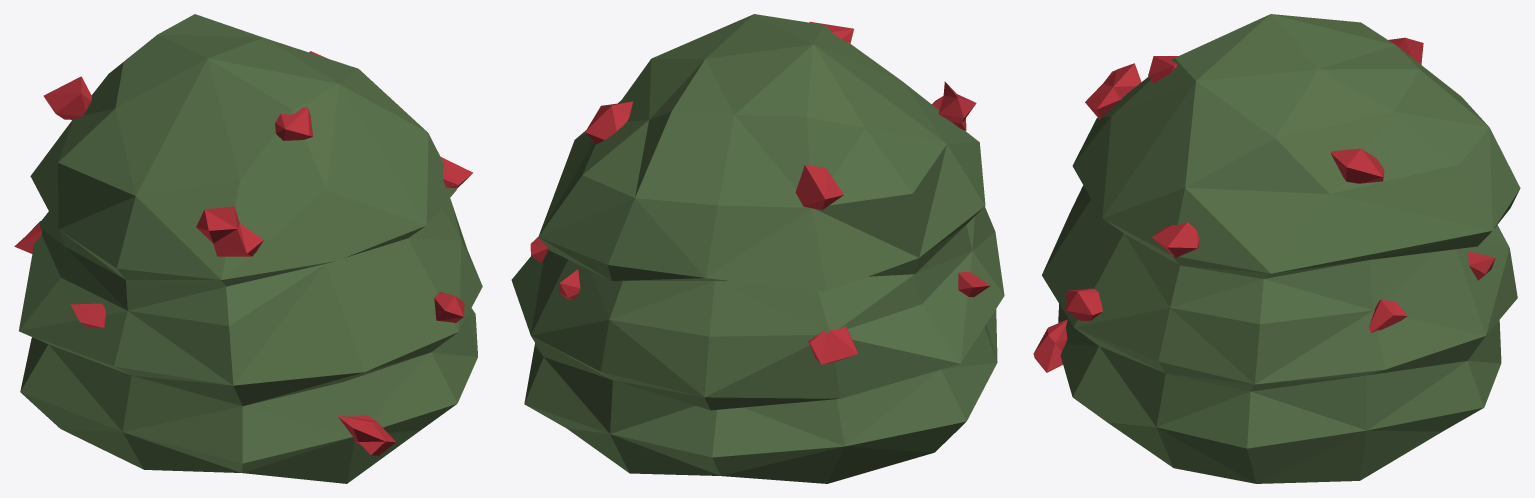
Rendered from BushBerries_2.lod1.glb.
The picture shows the model from 3 angles, left to right: view 1: azimuth 30°, elevation 25°; view 2: azimuth 150°, elevation 25°; view 3: azimuth 270°, elevation 25°; orthographic projection. The views are drawn at different scales.
Visible parts, largest first — view 1: BushBerries_2; view 2: BushBerries_2; view 3: BushBerries_2.
Part boxes in pixels (x1=…): BushBerries_2: x1=14, y1=14, x2=482, y2=483; BushBerries_2: x1=511, y1=14, x2=1004, y2=483; BushBerries_2: x1=1033, y1=14, x2=1520, y2=483.
Size of the model in its own units: 1.34 by 1.13 by 1.33.
